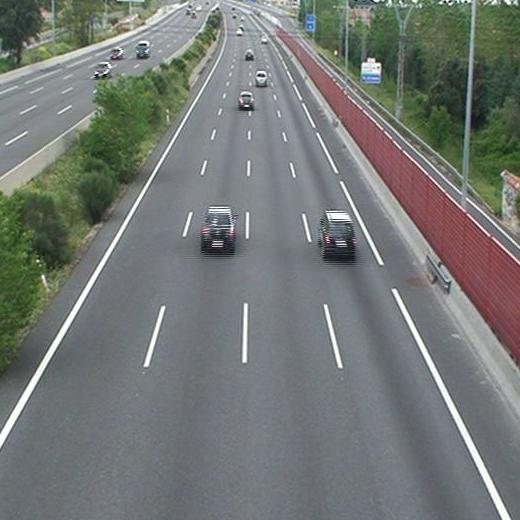car: (320, 212, 356, 255), (202, 208, 234, 247), (238, 91, 253, 108), (255, 71, 268, 86), (244, 51, 254, 60)
